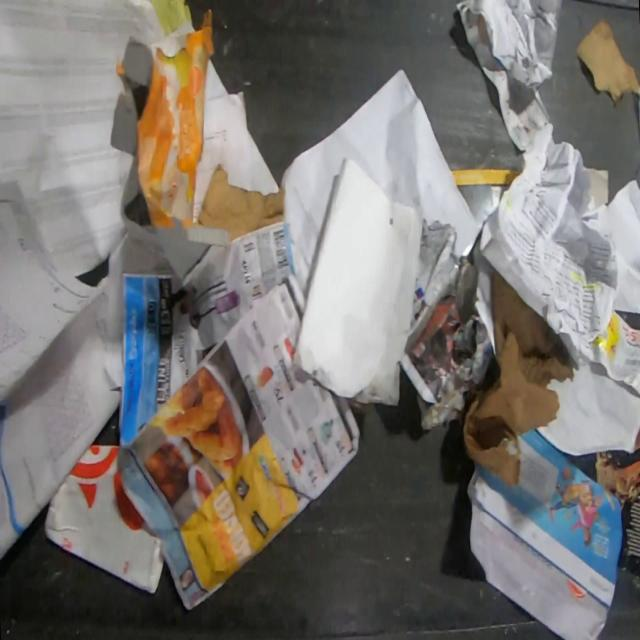cardboard: (118, 6, 230, 305), (458, 262, 578, 489), (42, 442, 166, 595), (192, 161, 286, 243), (574, 17, 640, 105), (449, 167, 521, 243), (585, 167, 609, 210)
